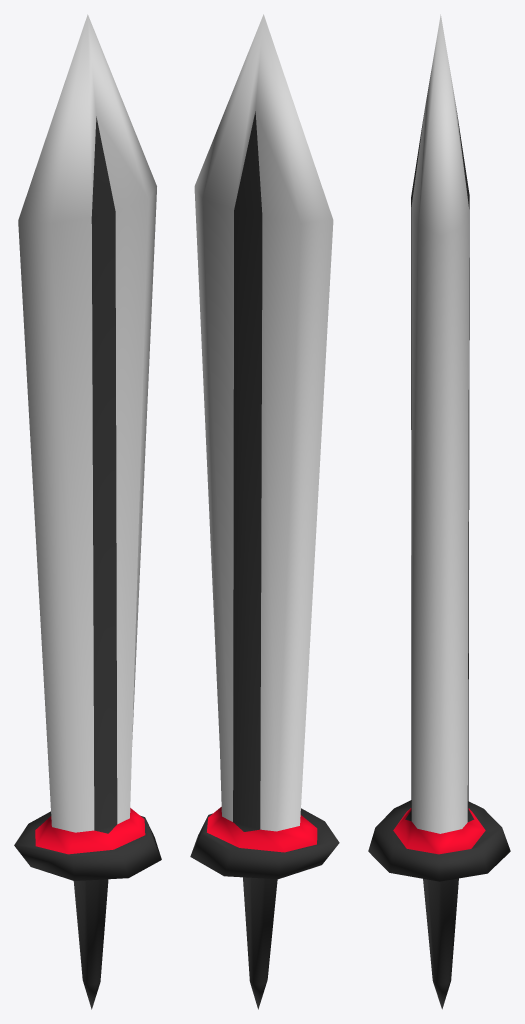
Rendered from sword.fbx.
3 renders of one model, left to right at view 1: azimuth 30°, elevation 25°; view 2: azimuth 150°, elevation 25°; view 3: azimuth 270°, elevation 25°, orthographic.
Visible parts, largest first — view 1: Sword; view 2: Sword; view 3: Sword.
Boxes of the visible parts, box(x1,y1,x2,y2) form: Sword: box(14, 14, 161, 1009); Sword: box(190, 14, 339, 1009); Sword: box(368, 14, 510, 1009).
Bounding box in the file's own units: 10.94 × 72.29 × 9.4.
